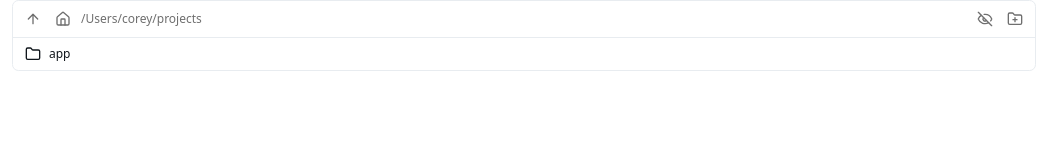
Test: WorkspacePicker new folder › shows the server error inline when creation fails
The width and height of the screenshot is (1048, 160).
Click the button with test id "workspace-picker-new-folder".
click(1015, 19)  # box left=1003, top=7, right=1027, bottom=31
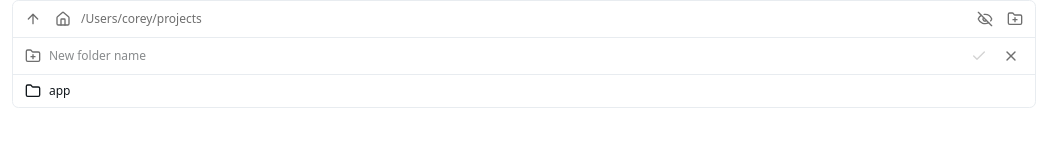
Type "app" into the field with test id "workspace-picker-new-folder-input".
click(504, 56); type("app")  # box left=49, top=48, right=959, bottom=64
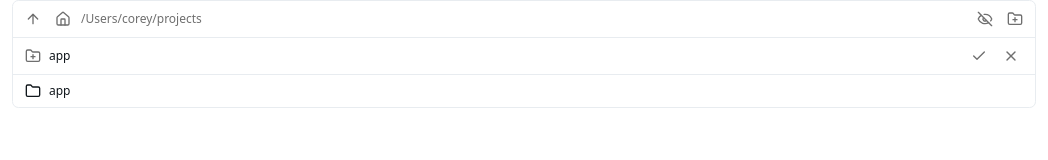
Click the button with test id "workspace-picker-new-folder-create".
click(979, 56)  # box left=967, top=44, right=991, bottom=68
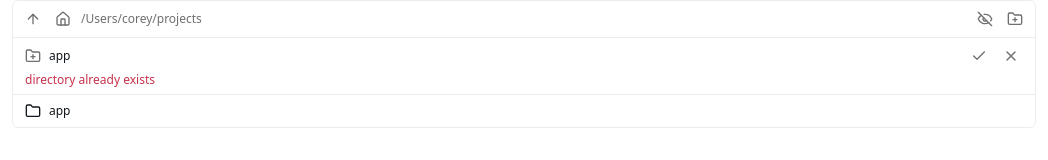
Check: the text with test id "workspace-picker-new-folder-error" shows "already exists", box left=25, top=71, right=155, bottom=88
